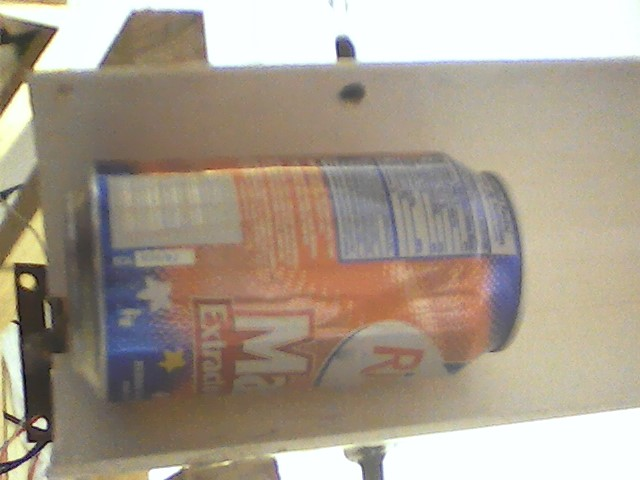lata: (56, 148, 536, 409)
